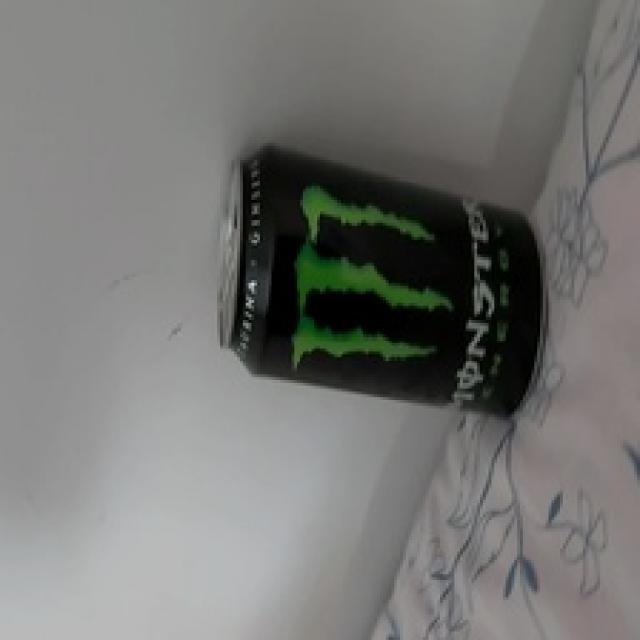recyclable: (215, 146, 546, 422)
